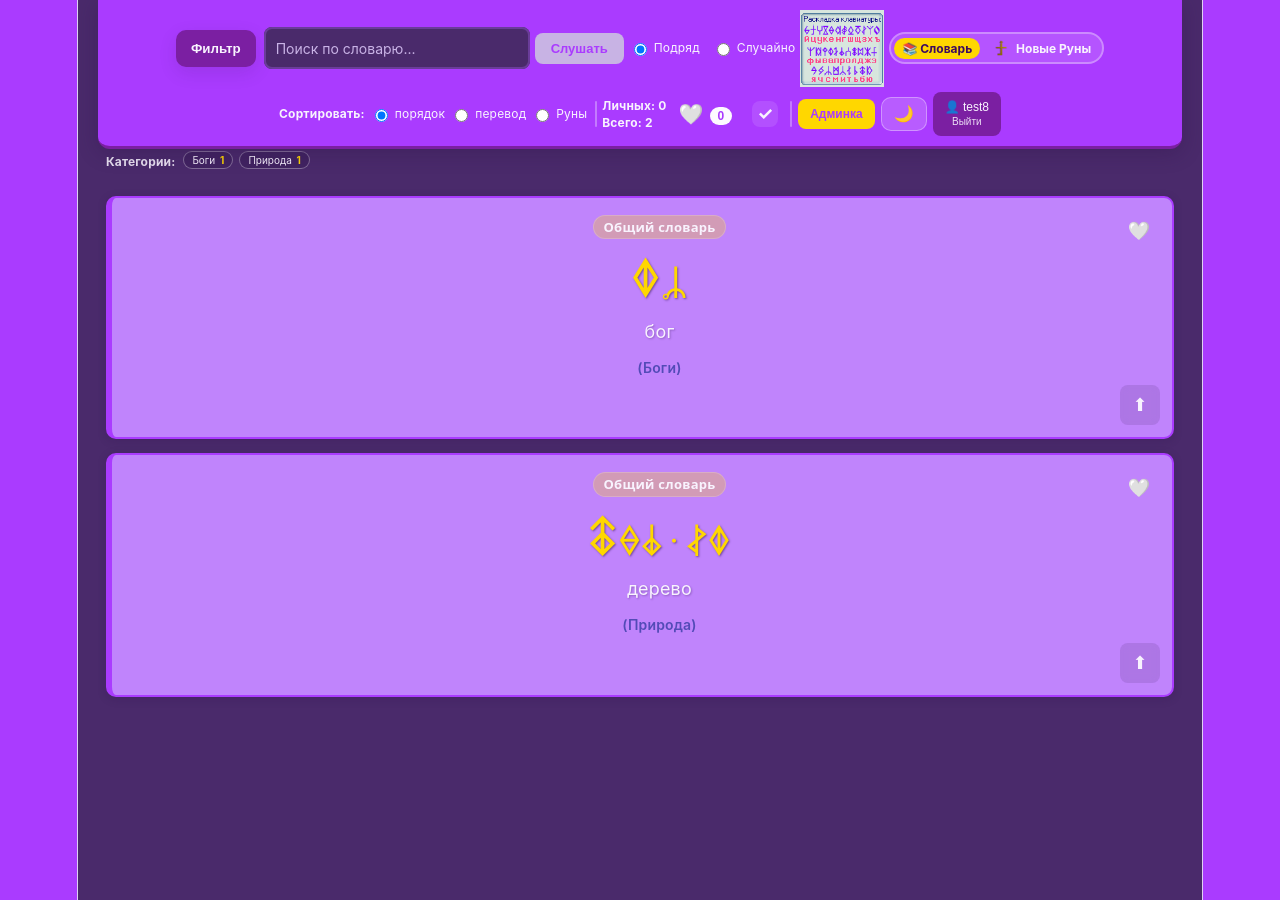
Лента категорий под шапкой: клик по чипу › повторный тап по тому же чипу снимает фильтр
Check: the list with class "category-stats-scroll" is shown, box x1=183 y1=150 x2=310 y2=168
Click the list item with class "category-stat-chip" showing "Боги 1": (208, 160) x1=183 y1=150 x2=233 y2=168
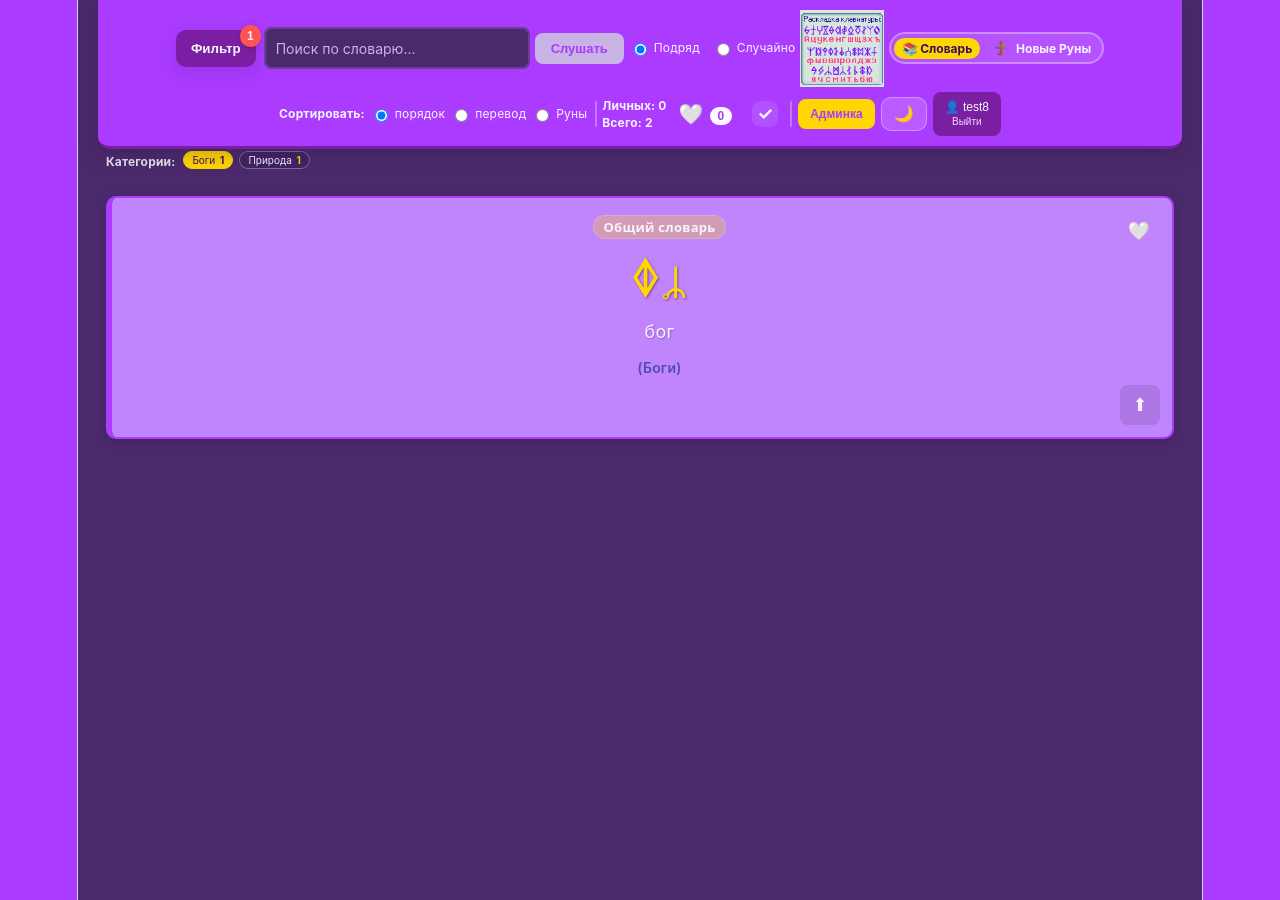
Click the list item with class "category-stat-chip" showing "Боги 1": (208, 160) x1=183 y1=150 x2=233 y2=168
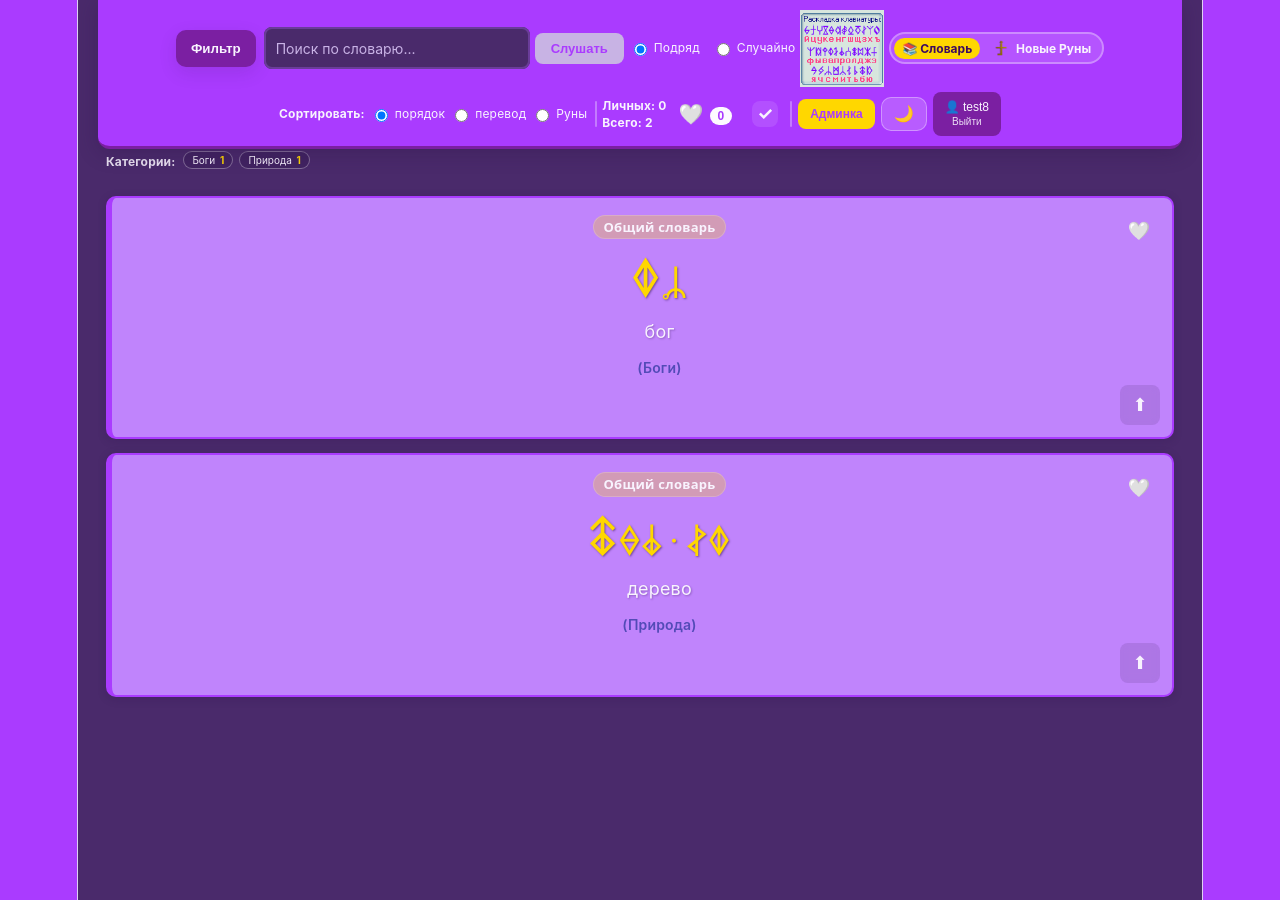
Check: the element with class "results" shows "Ас", box x1=632 y1=250 x2=687 y2=306
Check: the element with class "results" shows "Берёза", box x1=589 y1=507 x2=730 y2=564
